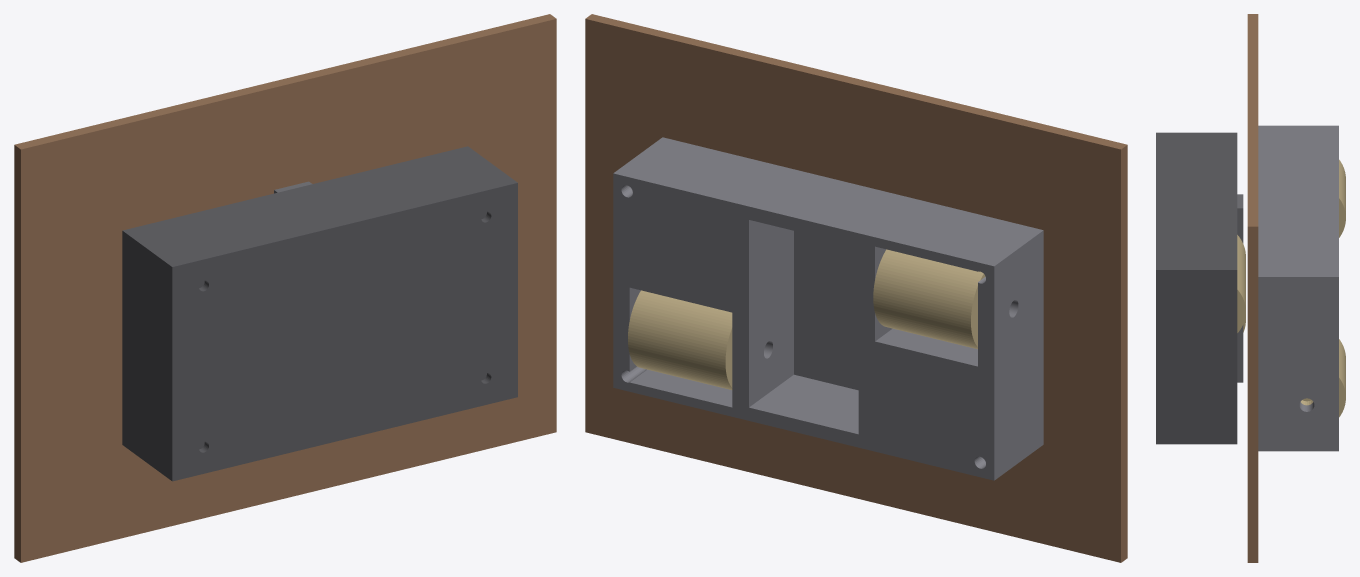
The model's file is spider_v0_assembly.glb.
The picture shows the model from 3 angles, left to right: view 1: azimuth 30°, elevation 25°; view 2: azimuth 150°, elevation 25°; view 3: azimuth 270°, elevation 25°; orthographic projection. The views are drawn at different scales.
Parts seen in each view (by area): view 1: leather, chassis; view 2: leather, f_frame, f_frollerB, f_frollerA, f_fcapA, f_fcapB; view 3: f_frame, chassis, leather, strap, rollerA, f_frollerB, f_frollerA, capA.
Part boxes in pixels (x1,y1,x2,y2): leather: (14, 14, 556, 562); chassis: (122, 146, 517, 481); leather: (585, 14, 1127, 562); f_frame: (613, 137, 1043, 480); f_frollerB: (873, 249, 985, 349); f_frollerA: (628, 290, 732, 389); f_fcapA: (628, 290, 659, 369); f_fcapB: (873, 250, 904, 330); f_frame: (1258, 125, 1338, 451); chassis: (1156, 132, 1237, 444); leather: (1247, 14, 1258, 562); strap: (1237, 194, 1243, 382); rollerA: (1237, 235, 1245, 305); f_frollerB: (1339, 159, 1345, 237); f_frollerA: (1339, 339, 1345, 417); capA: (1237, 286, 1245, 332).
Bounding box in the file's own units: 84.5 × 62.3 × 31.9.
